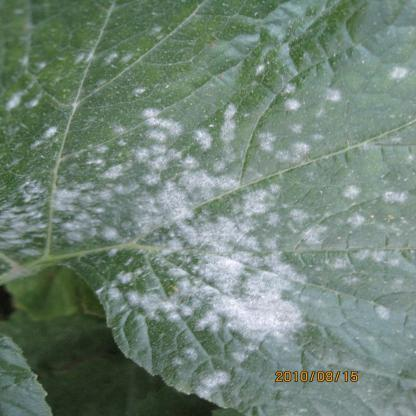Squash Powdery mildew leaf: (8, 1, 416, 411)
